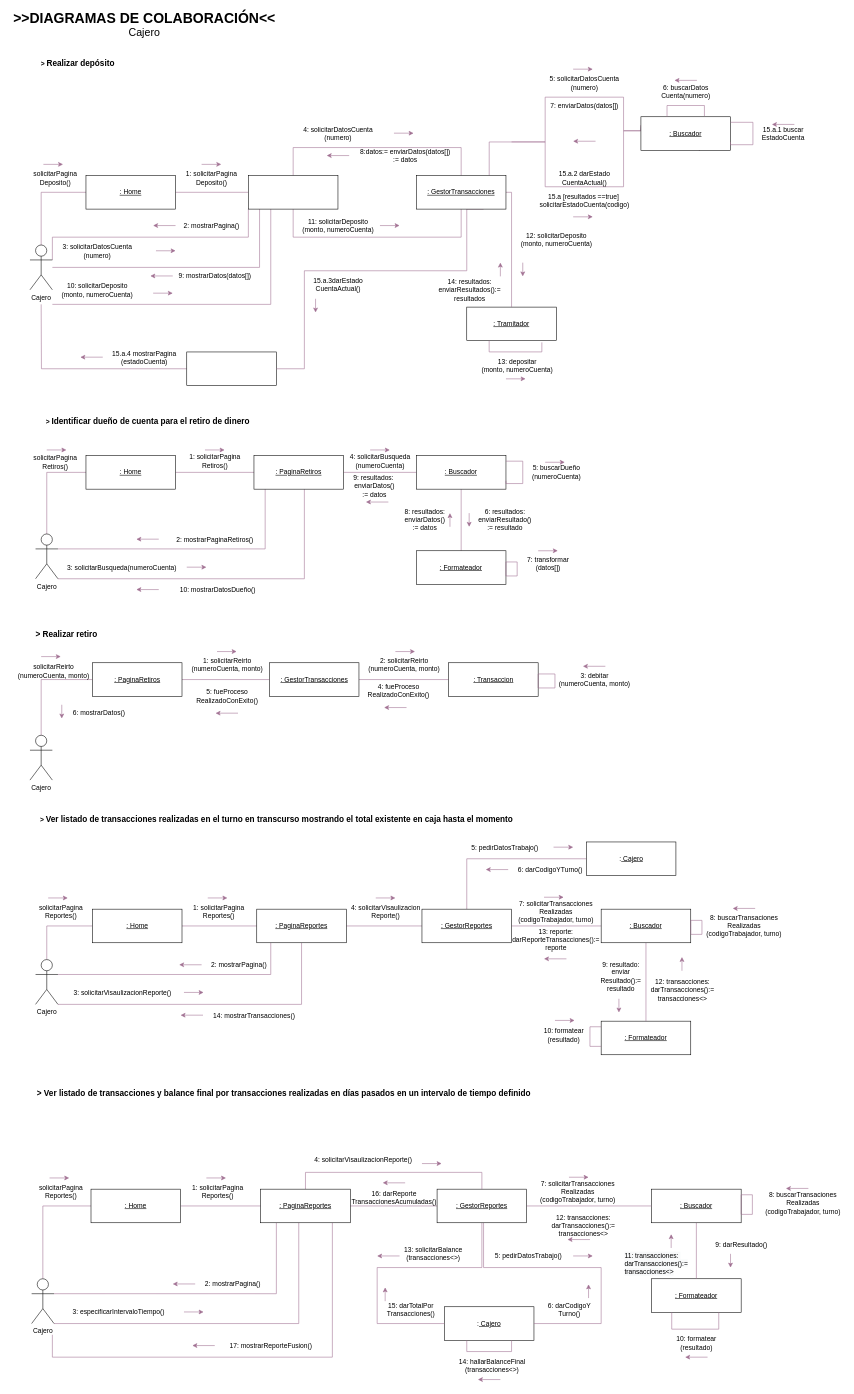
Image size: 854x1394. Some labels were removed from this diagram. Here are the shapes that lost their labels. From the top down, the box of each, then its label:
(248, 175, 338, 209): : PaginaDepositos
(186, 351, 276, 386): : MostradorResultados
